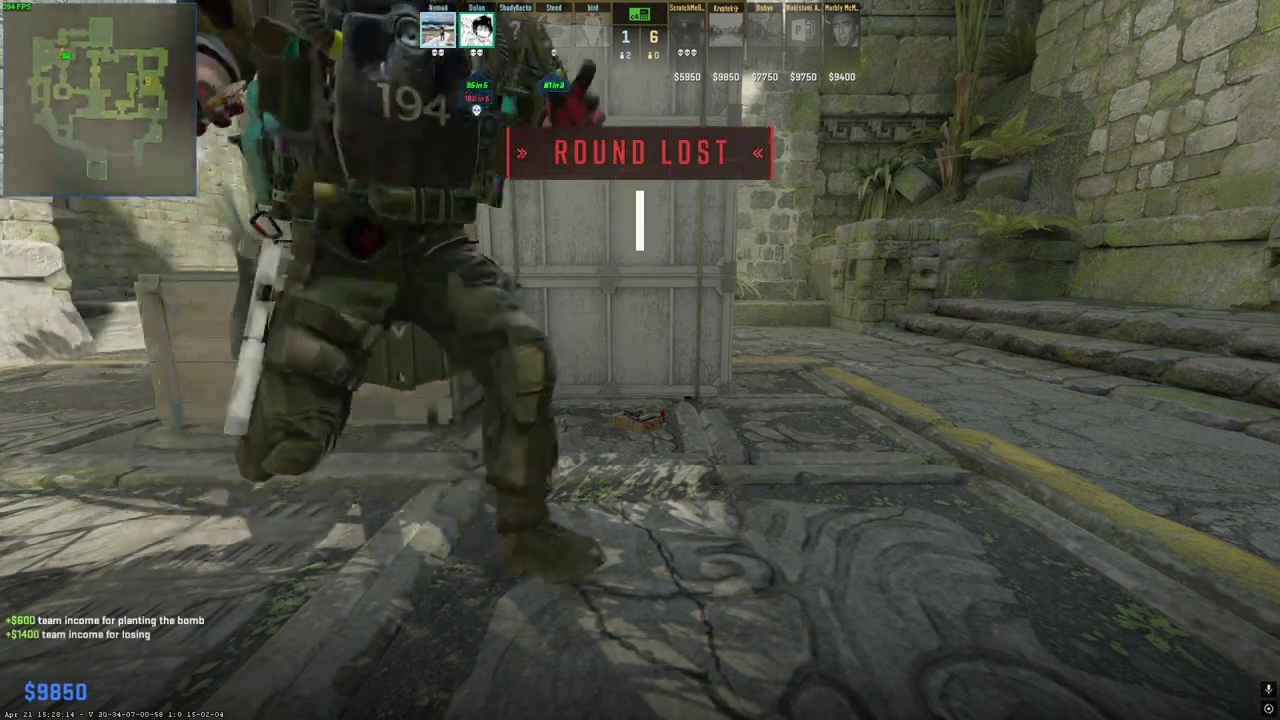CT: (194, 1, 598, 541)
